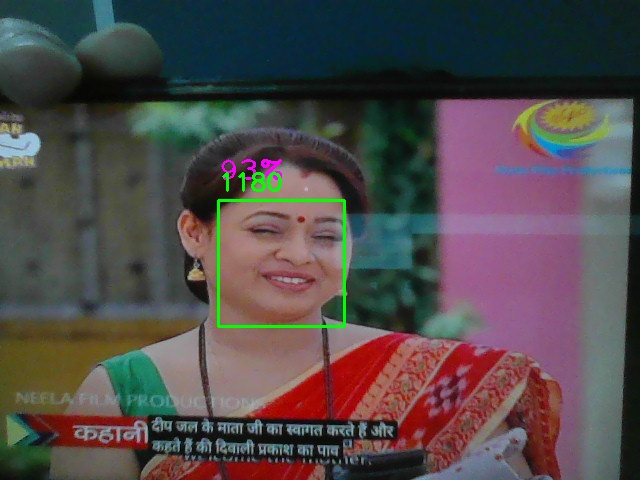fake: (218, 200, 345, 327)
